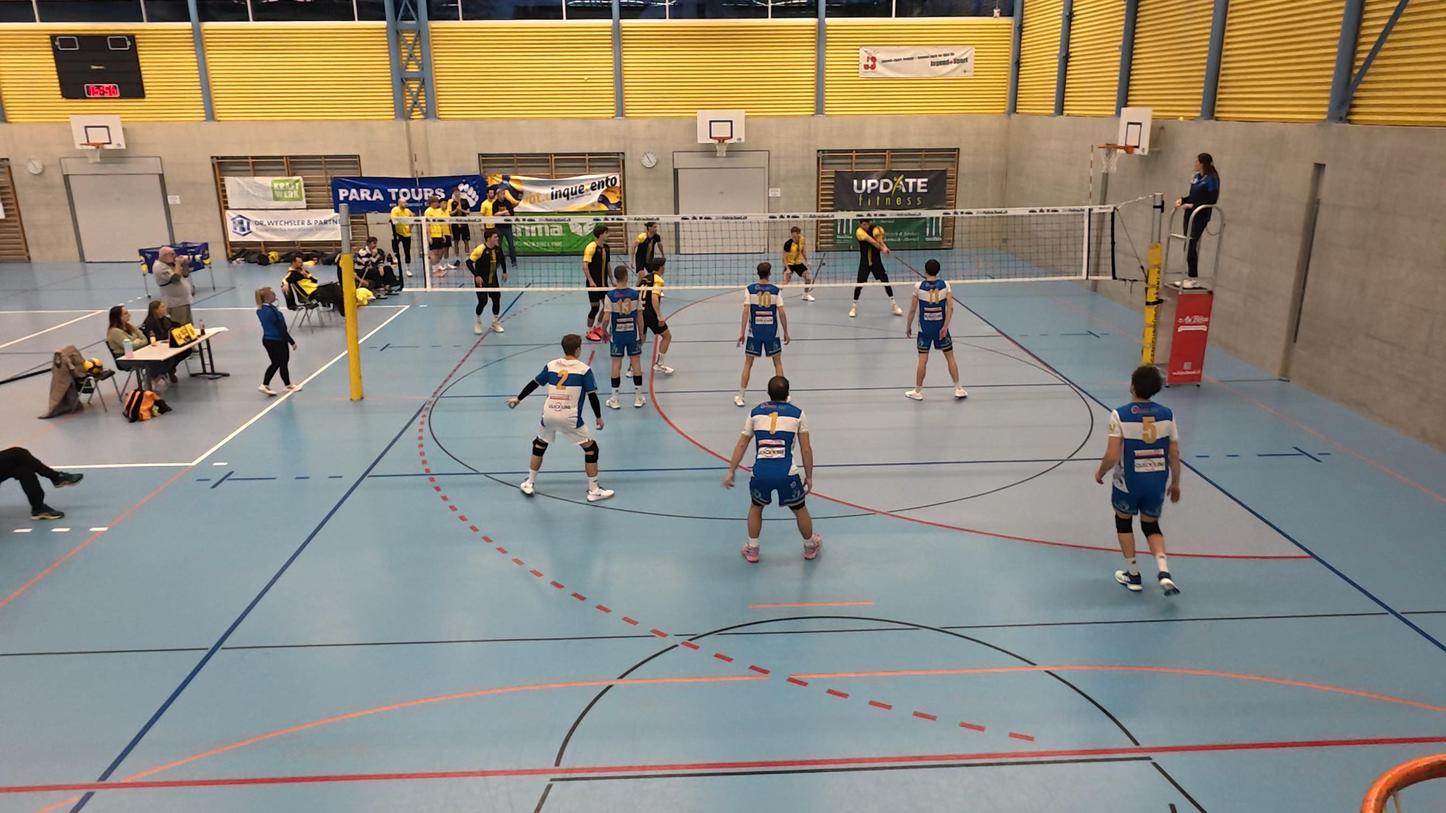ricezione: (848, 219, 902, 318)
